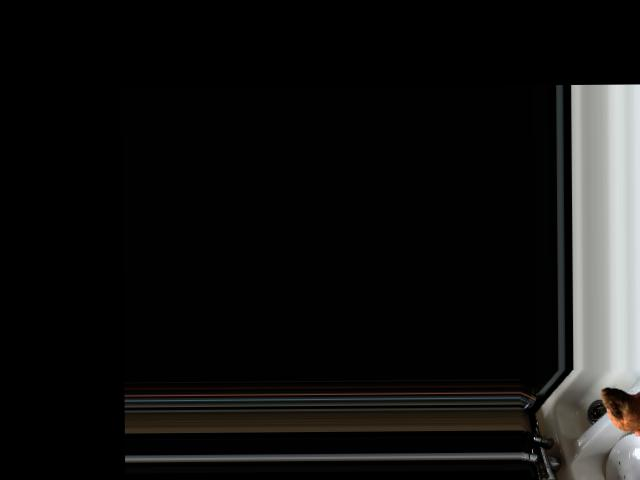sweet_potato: (600, 383, 640, 433)
